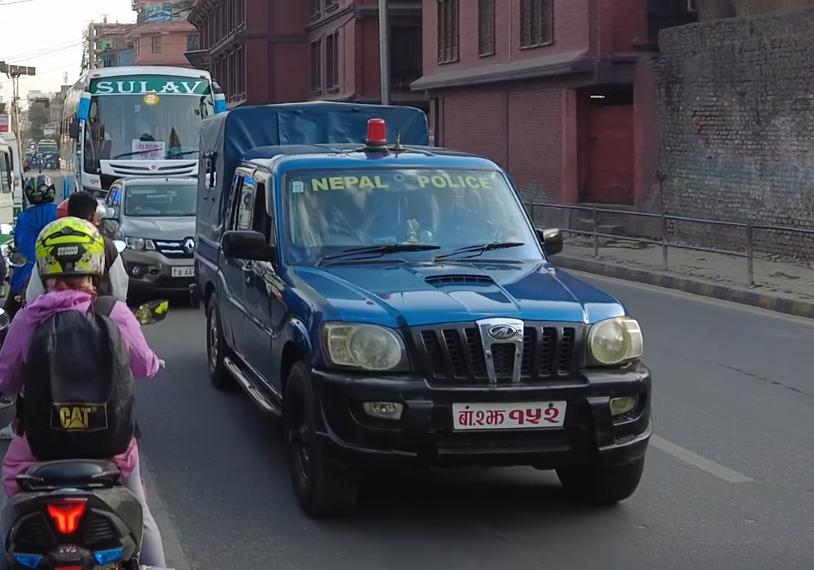police_vehicle: (179, 90, 669, 530)
